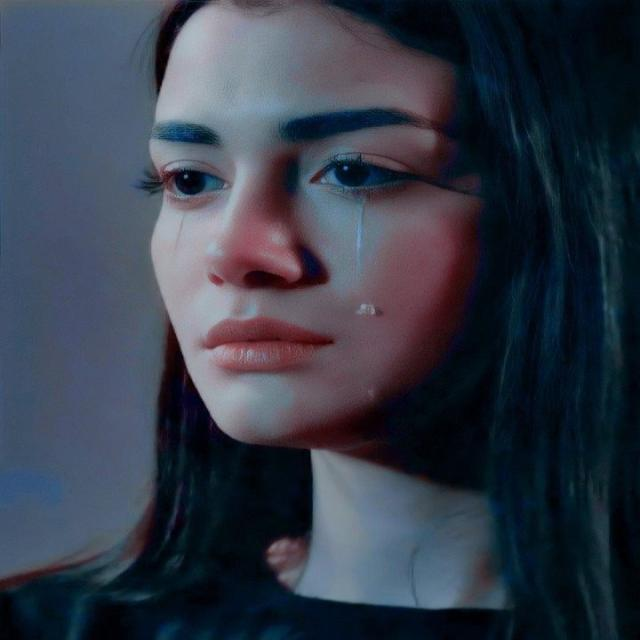natural: (130, 14, 488, 448)
